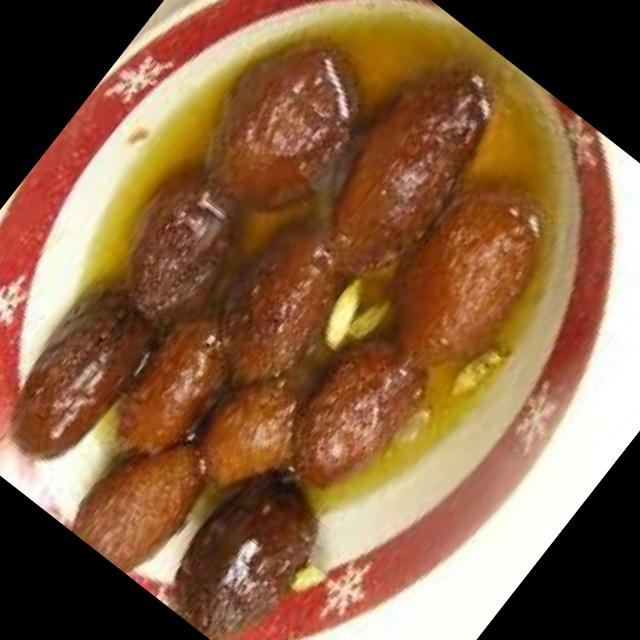gulab_jamun: (286, 37, 524, 296), (170, 11, 395, 248), (356, 154, 577, 390), (0, 264, 181, 479), (148, 450, 344, 640), (189, 206, 375, 404), (264, 320, 442, 509), (92, 154, 270, 341), (94, 284, 266, 474), (172, 334, 346, 518), (64, 406, 232, 584)
